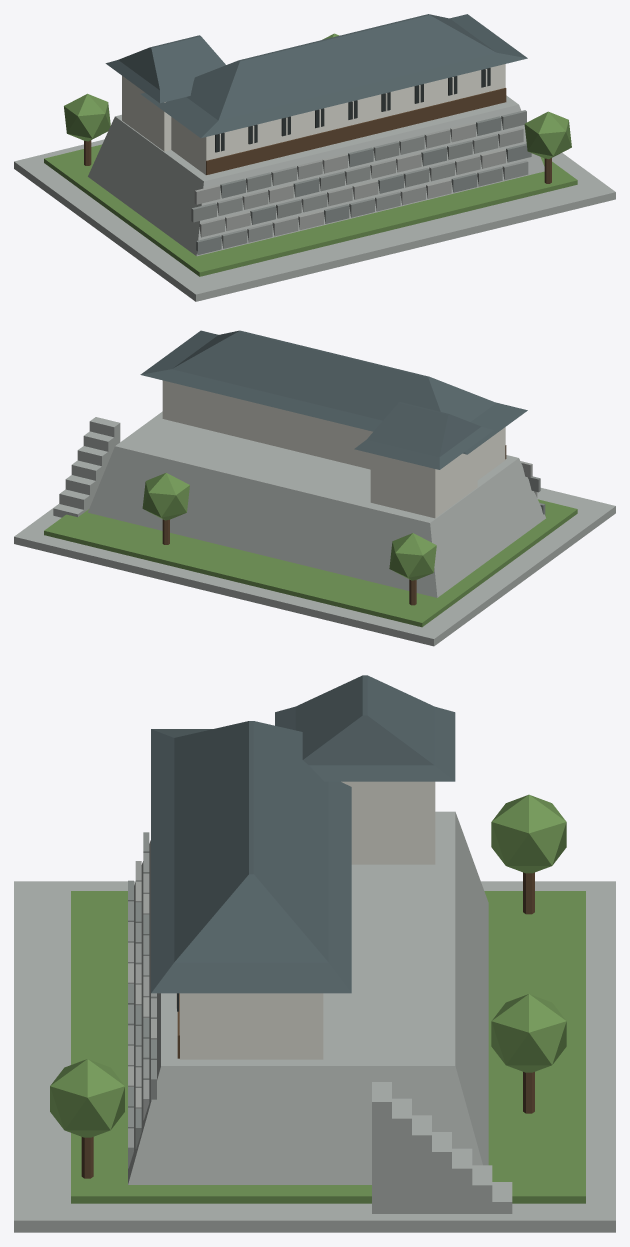
3 views of the same model, one above another, from view 1: azimuth 30°, elevation 25°; view 2: azimuth 150°, elevation 25°; view 3: azimuth 270°, elevation 25° (orthographic). The views are drawn at different scales.
Visible parts, largest first — view 1: fukuoka-castle; view 2: fukuoka-castle; view 3: fukuoka-castle.
Boxes of the visible parts, box(x1,y1,x2,y2) form: fukuoka-castle: box(14, 14, 615, 301); fukuoka-castle: box(14, 330, 615, 646); fukuoka-castle: box(14, 675, 615, 1232).
Bounding box in the file's own units: 12 × 4.41 × 9.
